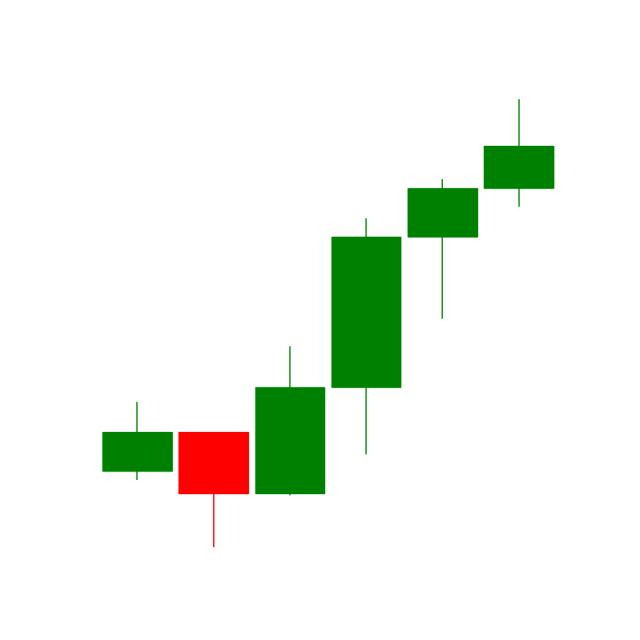Hammer: (407, 177, 479, 321)
Hanging Man: (177, 430, 250, 553)
Inverted Hammer: (481, 93, 558, 208), (100, 399, 176, 480)
